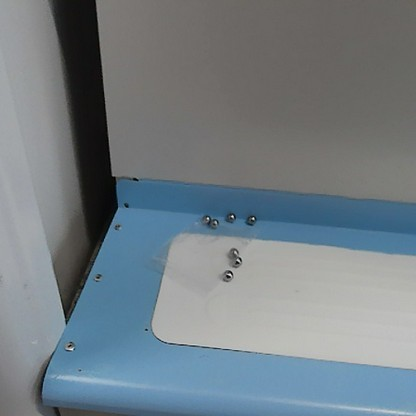ironball: (224, 243, 239, 258), (243, 211, 258, 225), (219, 267, 234, 281), (206, 215, 220, 229), (229, 253, 242, 268), (224, 208, 236, 224), (199, 212, 212, 224)
